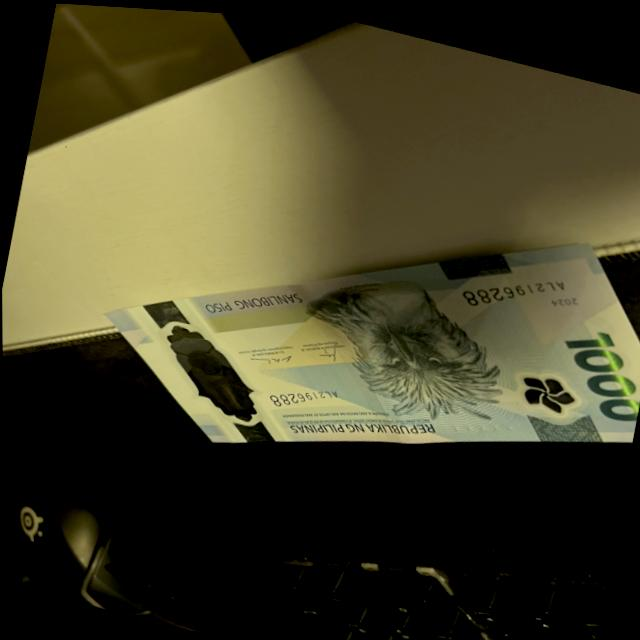clear_window: (155, 316, 277, 428)
eagle: (323, 269, 497, 418)
sampaguita: (511, 359, 578, 411)
